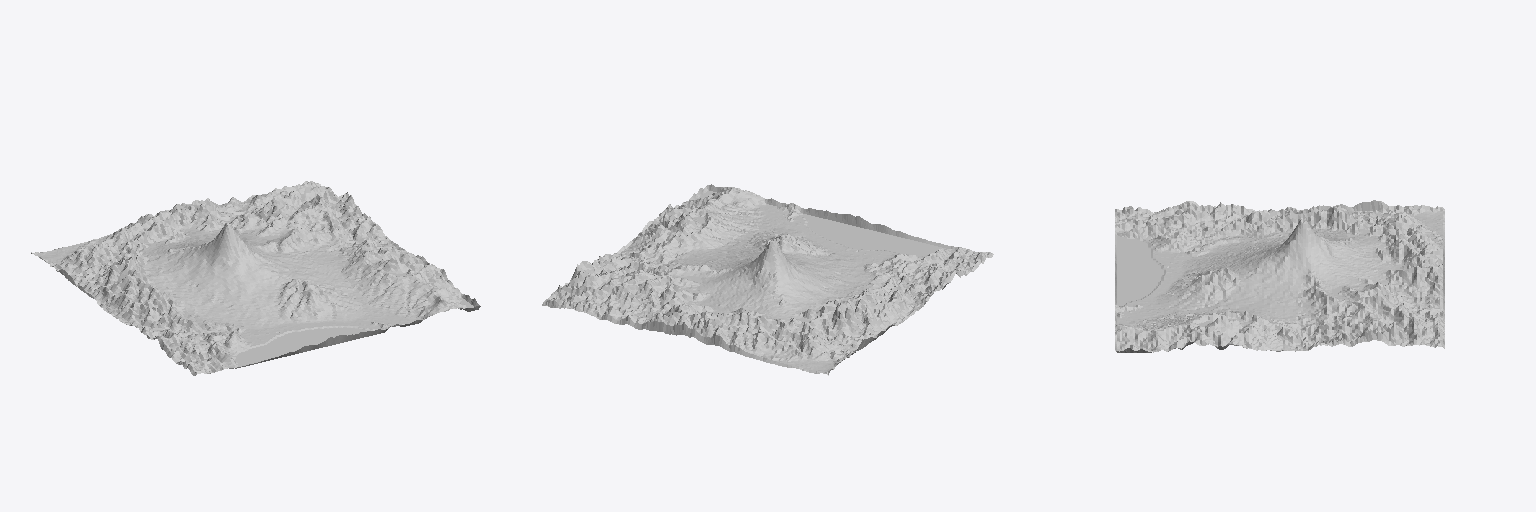
The model's file is sueloRef.obj.
3 views of the same model, side by side, from view 1: azimuth 30°, elevation 25°; view 2: azimuth 150°, elevation 25°; view 3: azimuth 270°, elevation 25° (orthographic).
Visible parts, largest first — view 1: Plane_Plane.000; view 2: Plane_Plane.000; view 3: Plane_Plane.000.
Boxes of the visible parts, x1,y1,x2,y2 form: Plane_Plane.000: [31, 181, 480, 375]; Plane_Plane.000: [542, 184, 993, 375]; Plane_Plane.000: [1115, 200, 1444, 352].
Size of the model in its own units: 1200 by 228 by 1200.